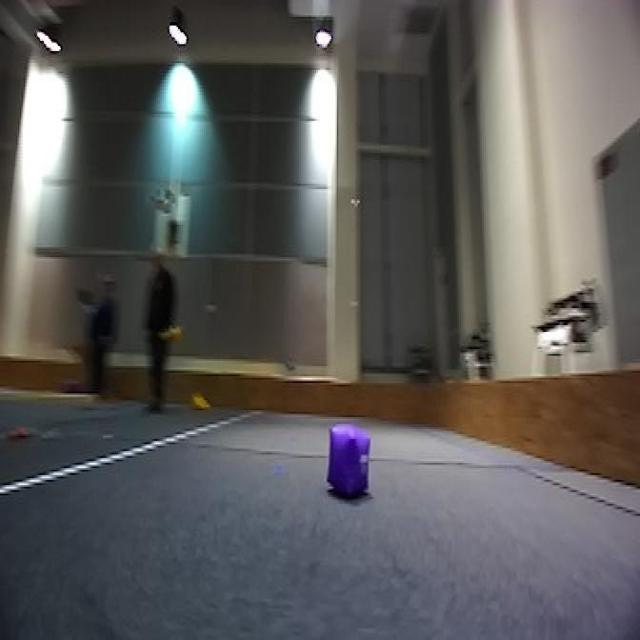frc_cone: (160, 320, 187, 351), (188, 389, 208, 414)
frc_cube: (326, 422, 371, 501)
